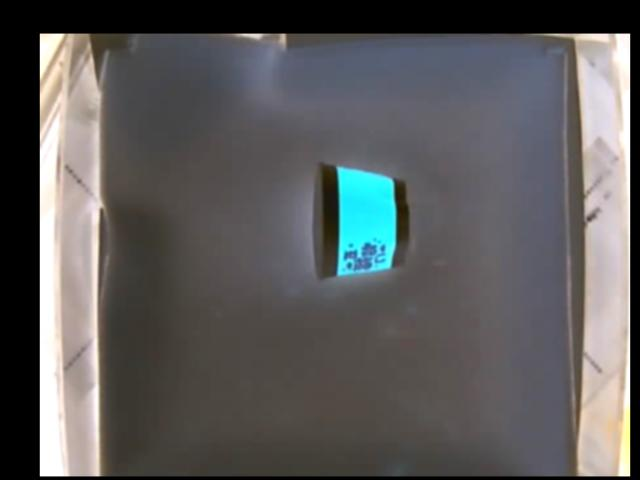Cup: (310, 165, 411, 282)
